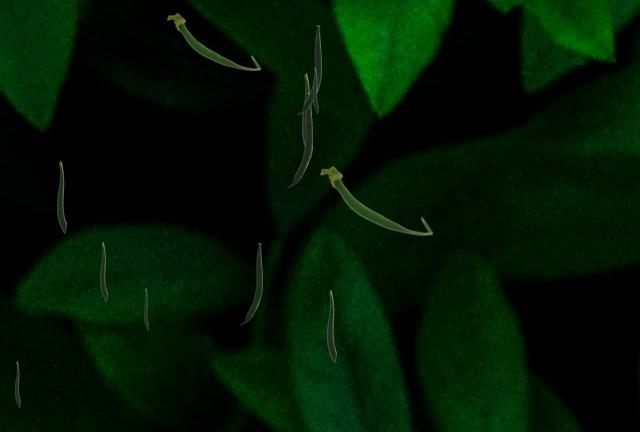french_bean: (319, 165, 432, 235), (166, 12, 260, 70), (288, 93, 311, 186), (298, 25, 320, 113), (241, 243, 261, 323), (302, 73, 311, 157), (327, 290, 335, 361), (57, 161, 65, 232), (100, 242, 106, 300), (313, 67, 317, 112), (15, 361, 19, 406), (144, 288, 147, 329)
